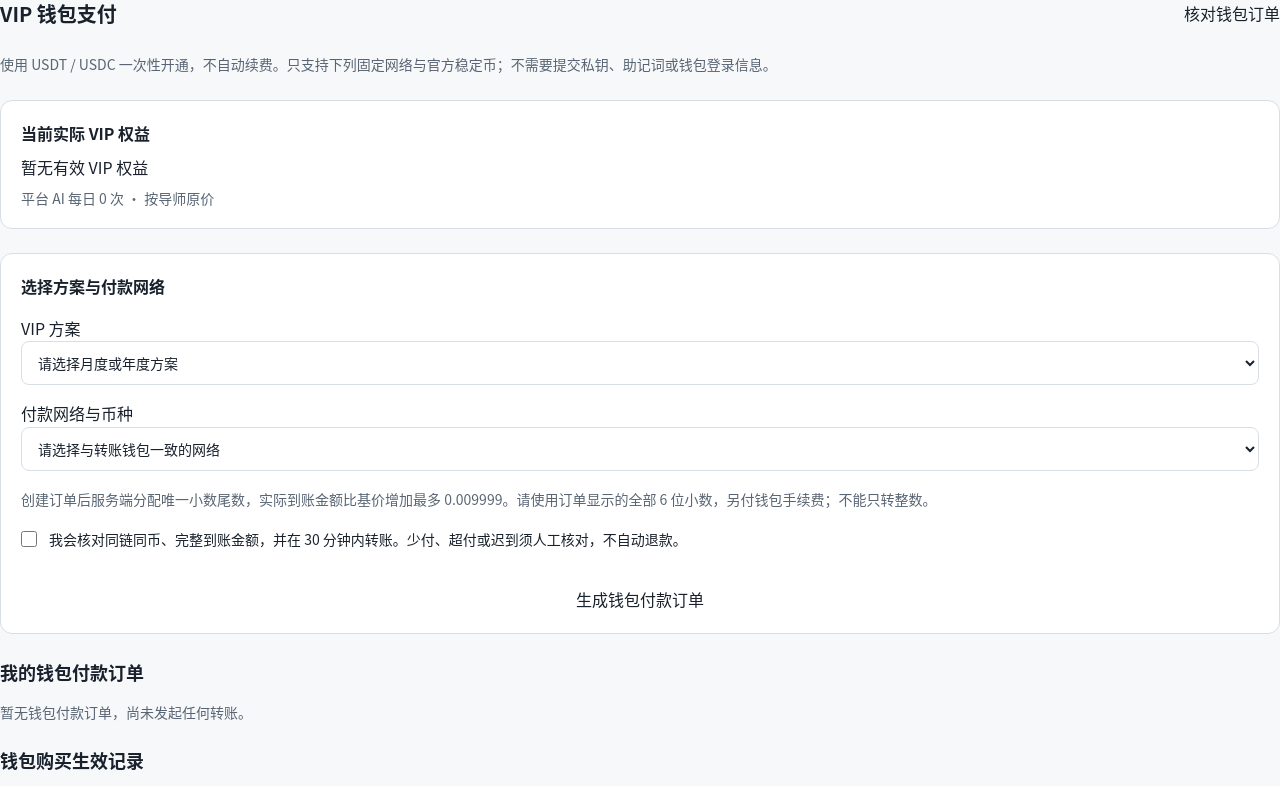
Scenario: MembershipWallet authentic owner checkout and proof recovery › releases only an acknowledged exact 409 quote rejection after a successful absent-original read
Select "VIP 会员 · 月度 · 基价 52.000000 USDT / USDC" in the dropdown labelled "VIP 方案" at (640, 363), box [21,341,1259,385]
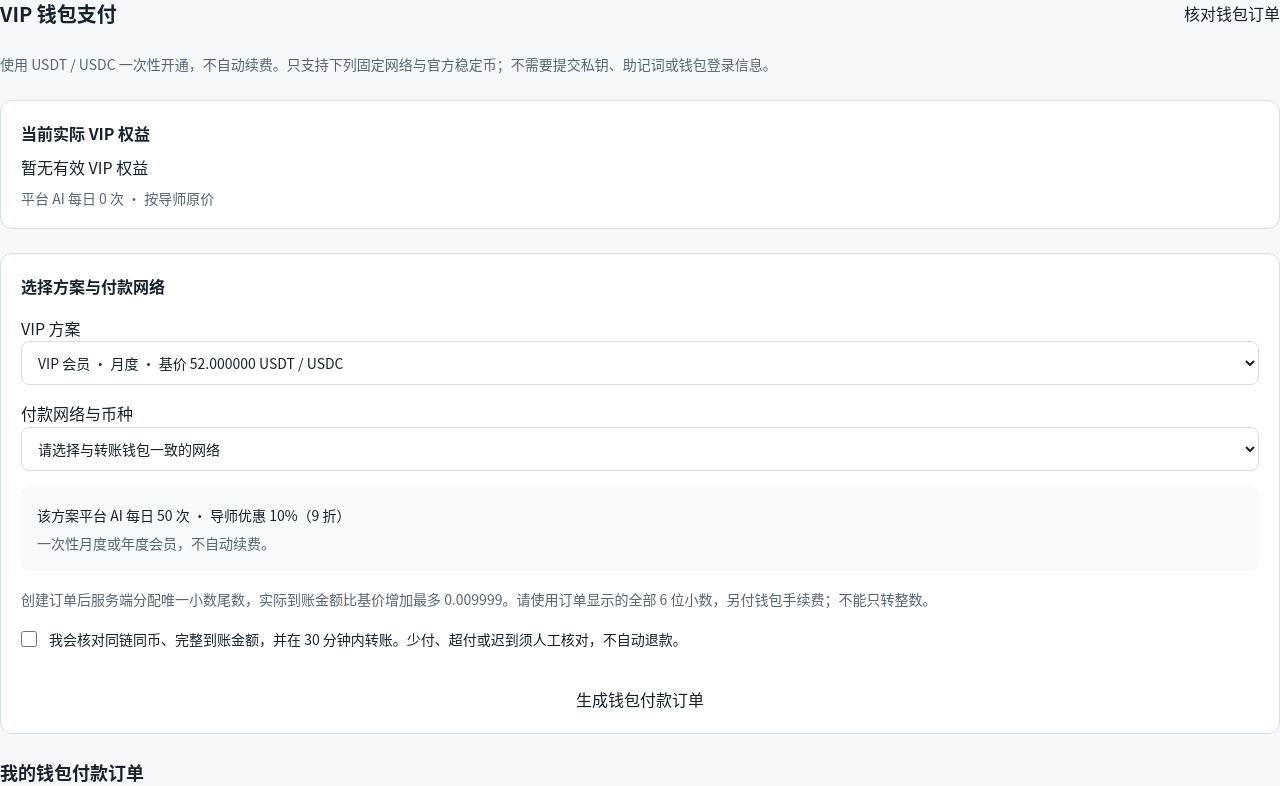
Select "Base · USDC" in the dropdown labelled "付款网络与币种" at (640, 449), box [21,427,1259,471]
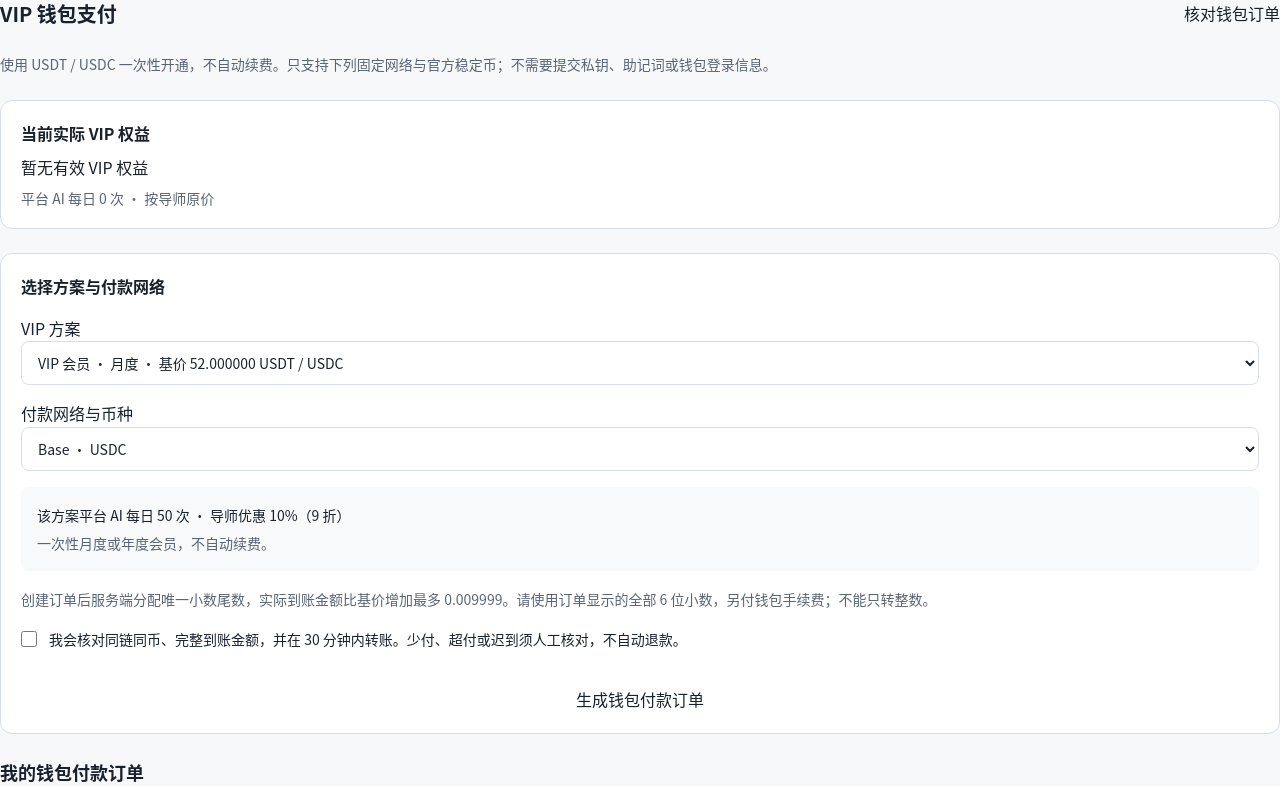
Click the checkbox at (29, 639), box [21,631,37,647]
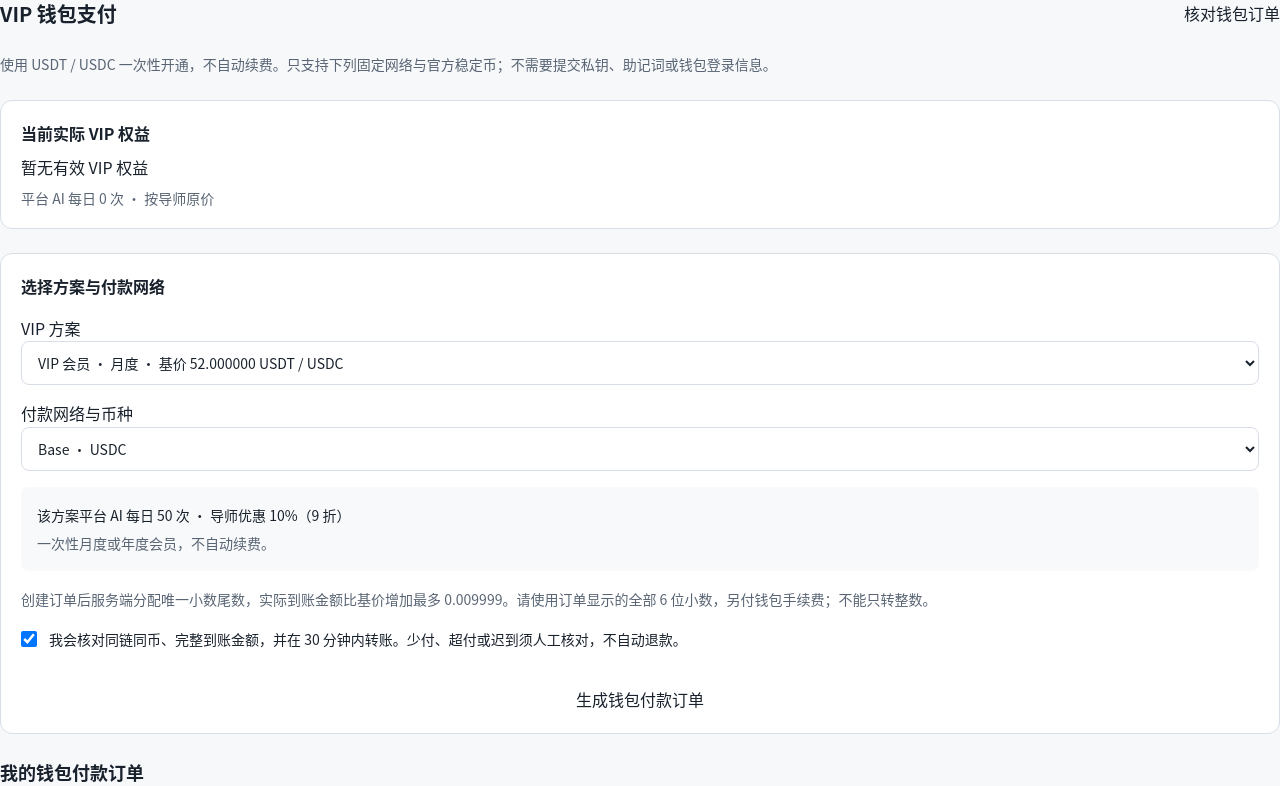
Click the button "生成钱包付款订单" at (640, 700), box [21,687,1259,713]
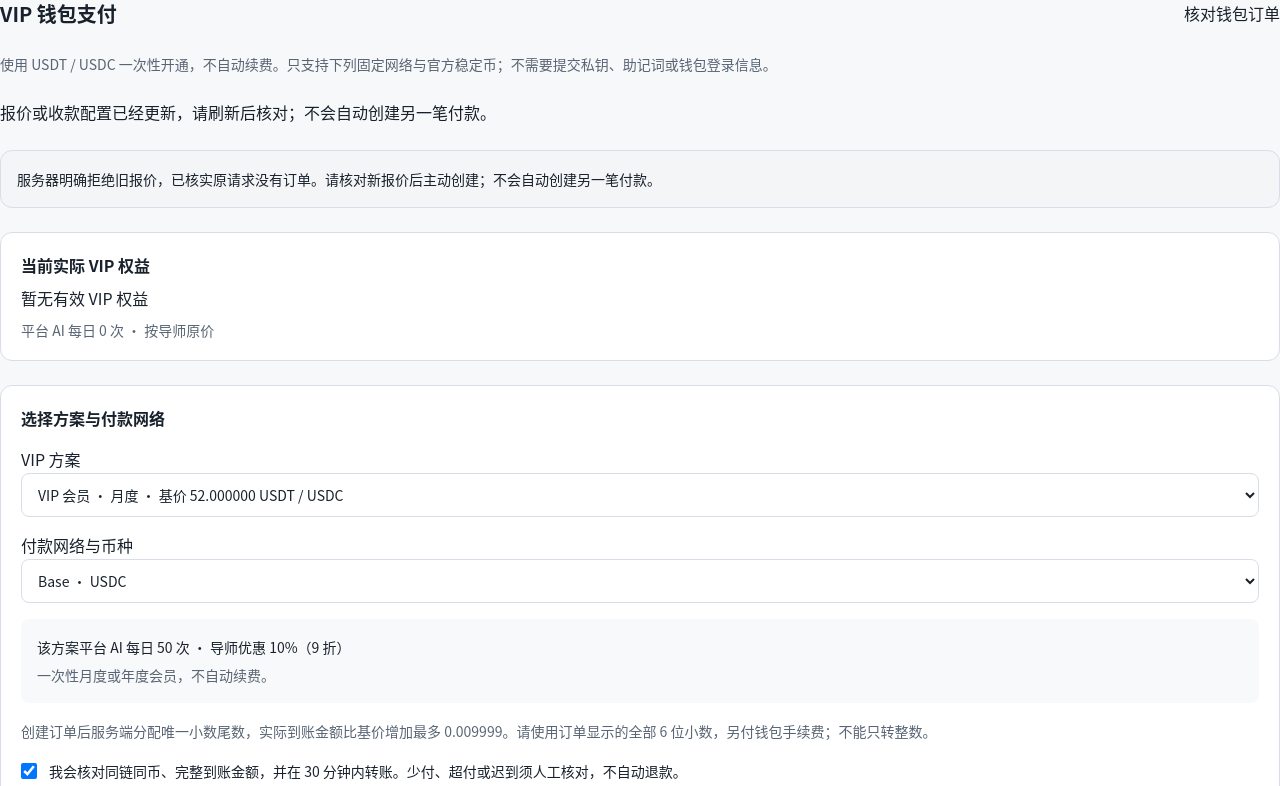
Now the text "服务器明确拒绝旧报价，已核实原请求没有订单。请核对新报价后主动创建；不会自动创建另一笔付款。" is shown, box [0,150,1279,208]
